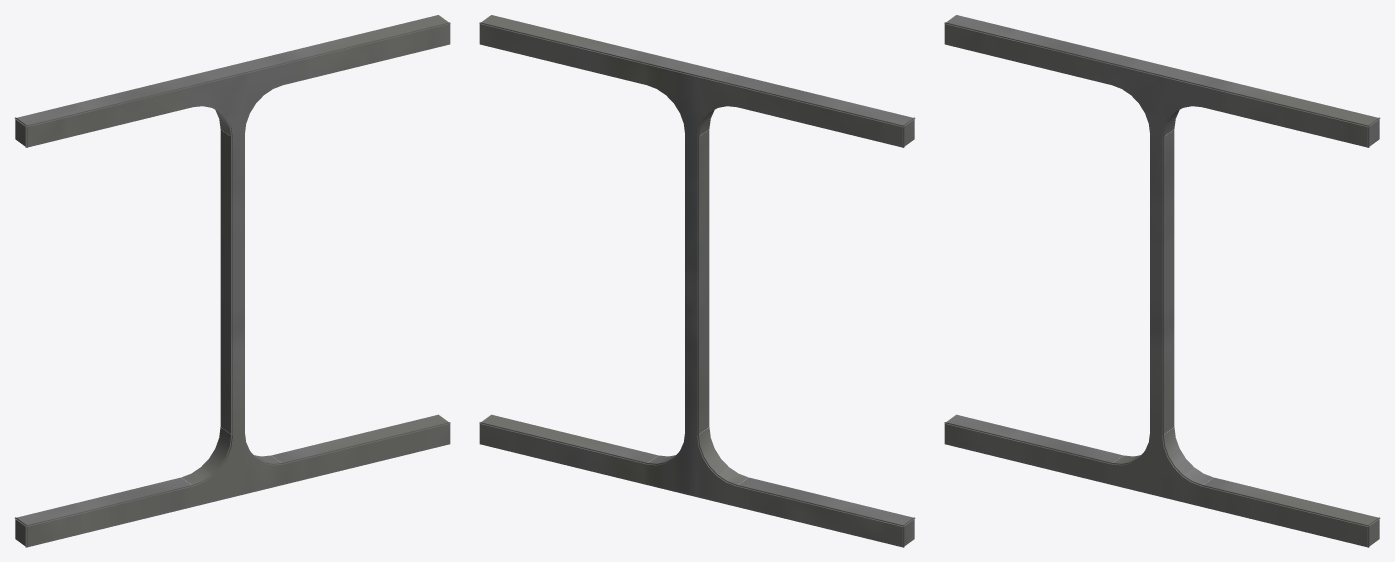
Rendered from HEA200.glb.
The picture shows the model from 3 angles, left to right: view 1: azimuth 30°, elevation 25°; view 2: azimuth 150°, elevation 25°; view 3: azimuth 330°, elevation 25°; orthographic projection.
Size of the model in its own units: 20 by 19 by 1.
Materials: 1 (1 with a texture image).
